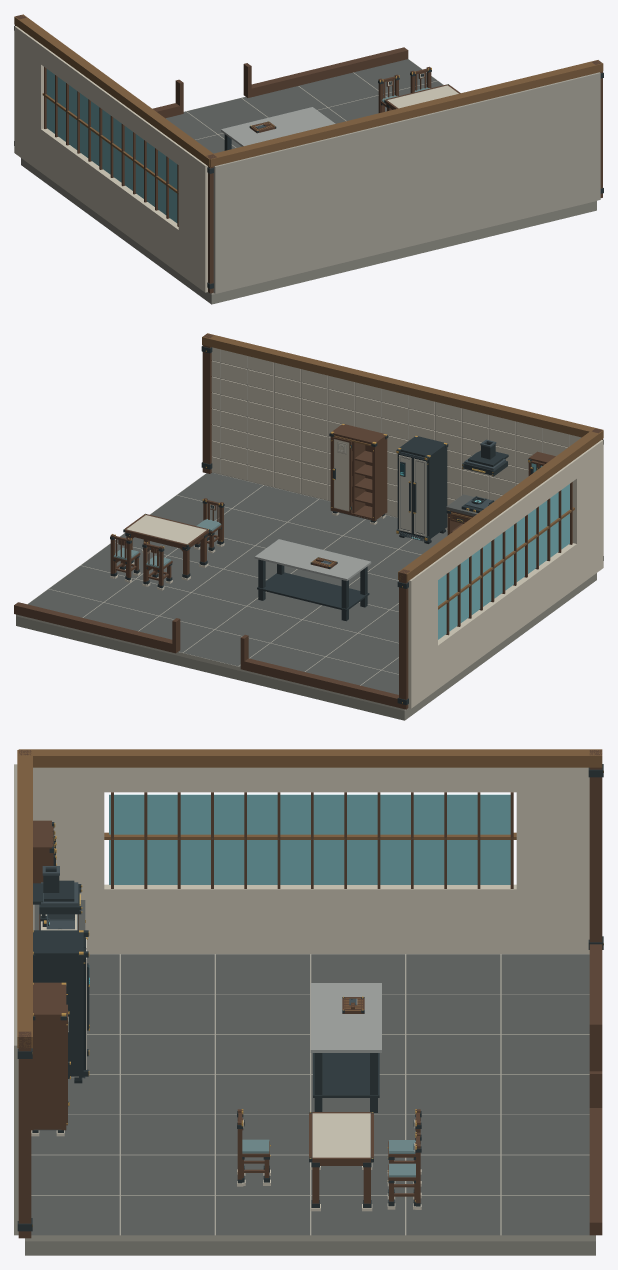
The picture shows the model from 3 angles, top to bottom: view 1: azimuth 30°, elevation 25°; view 2: azimuth 150°, elevation 25°; view 3: azimuth 270°, elevation 25°; orthographic projection. The views are drawn at different scales.
Parts seen in each view (by area): view 1: 真实窗洞、木梁与切角房间墙, 分层实心台基与独立石铺面, 连续不锈钢备餐岛, 餐椅 (×2), 餐桌桌架; view 2: 真实窗洞、木梁与切角房间墙, 分层实心台基与独立石铺面, 连续不锈钢备餐岛, 食品储物柜, 冰箱/冷藏柜外壳, 餐椅 (×3), 餐桌桌架, 厨房灶具及烟罩; view 3: 分层实心台基与独立石铺面, 真实窗洞、木梁与切角房间墙, 连续不锈钢备餐岛, 食品储物柜, 冰箱/冷藏柜外壳, 餐桌桌架, 餐椅 (×3), 厨房灶具及烟罩, 厨房吊柜, 厨房水槽及龙头.
Part boxes in pixels (x1,y1,x2,y2): 真实窗洞、木梁与切角房间墙: (14, 14, 603, 293); 分层实心台基与独立石铺面: (21, 59, 596, 304); 连续不锈钢备餐岛: (221, 107, 335, 150); 餐椅 (×2): (378, 66, 431, 112); 餐桌桌架: (384, 84, 460, 111); 真实窗洞、木梁与切角房间墙: (14, 333, 603, 709); 分层实心台基与独立石铺面: (16, 472, 596, 720); 连续不锈钢备餐岛: (254, 539, 371, 621); 食品储物柜: (329, 424, 388, 524); 冰箱/冷藏柜外壳: (396, 436, 448, 543); 餐椅 (×3): (110, 498, 224, 590); 餐桌桌架: (123, 513, 209, 580); 厨房灶具及烟罩: (461, 439, 507, 512); 分层实心台基与独立石铺面: (25, 954, 595, 1255); 真实窗洞、木梁与切角房间墙: (14, 749, 603, 1238); 连续不锈钢备餐岛: (310, 983, 381, 1112); 食品储物柜: (31, 982, 70, 1136); 冰箱/冷藏柜外壳: (33, 930, 89, 1083); 餐桌桌架: (309, 1112, 373, 1211); 餐椅 (×3): (237, 1109, 421, 1209); 厨房灶具及烟罩: (39, 866, 82, 914); 厨房吊柜: (33, 820, 56, 883); 厨房水槽及龙头: (40, 914, 78, 930).
Bounding box in the file's own units: 8.63 × 3.08 × 7.44.
21 materials, 21 textured.
